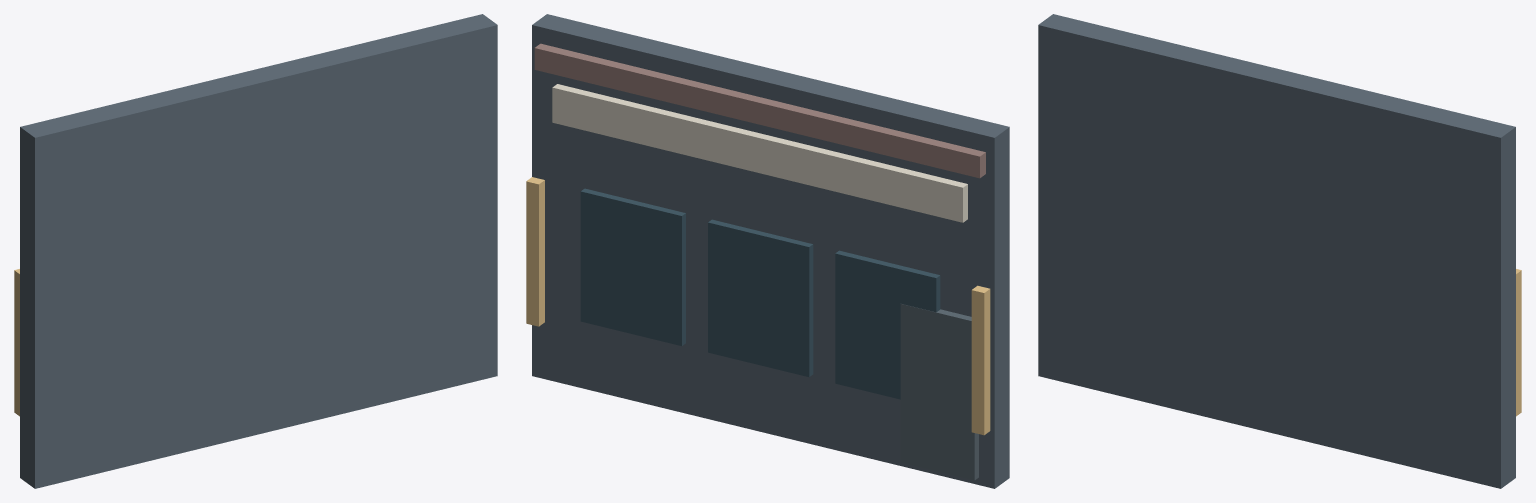
The model's file is la-city-storefront-facade.glb.
3 renders of one model, left to right at view 1: azimuth 30°, elevation 25°; view 2: azimuth 150°, elevation 25°; view 3: azimuth 330°, elevation 25°, orthographic.
Parts seen in each view (by area): view 1: la-city-storefront-facade; view 2: la-city-storefront-facade; view 3: la-city-storefront-facade.
Part boxes in pixels (x1=…): la-city-storefront-facade: x1=14, y1=14, x2=497, y2=488; la-city-storefront-facade: x1=526, y1=14, x2=1009, y2=488; la-city-storefront-facade: x1=1038, y1=14, x2=1521, y2=488.
Size of the model in its own units: 8 by 5.8 by 0.695.
